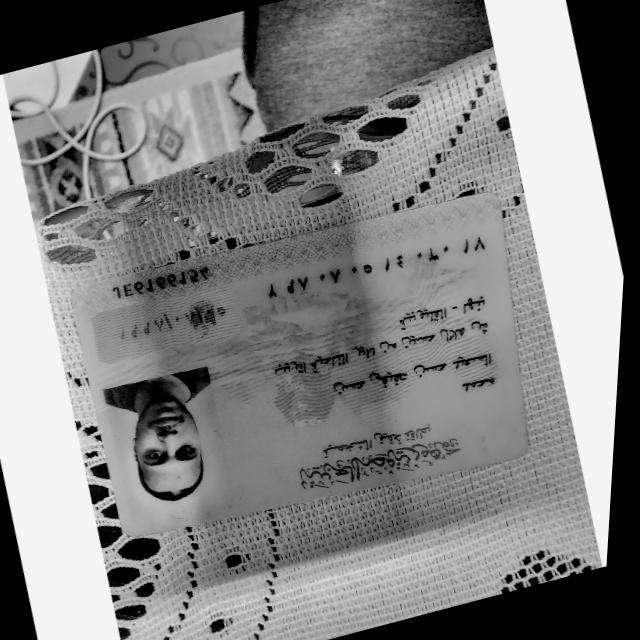id_card: (65, 194, 563, 551)
